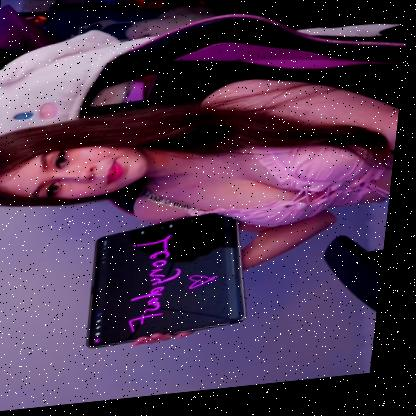streamer: (0, 73, 407, 363)
